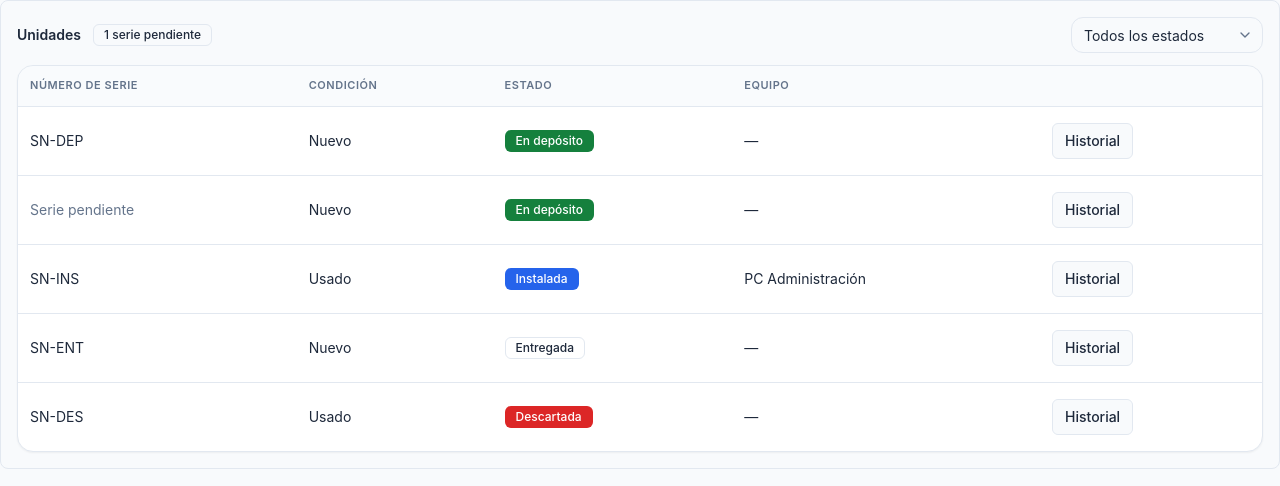
Test case: UnidadesInsumoSection › filtrar por estado deja solo esas unidades y el contador sigue contando todas
This screenshot has width=1280, height=486.
Check: the text "SN-INS" is shown, box [18,244,297,313]
Select "Descartada" in the dropdown named "Filtrar por estado" at (1167, 35), box [1071,17,1263,53]
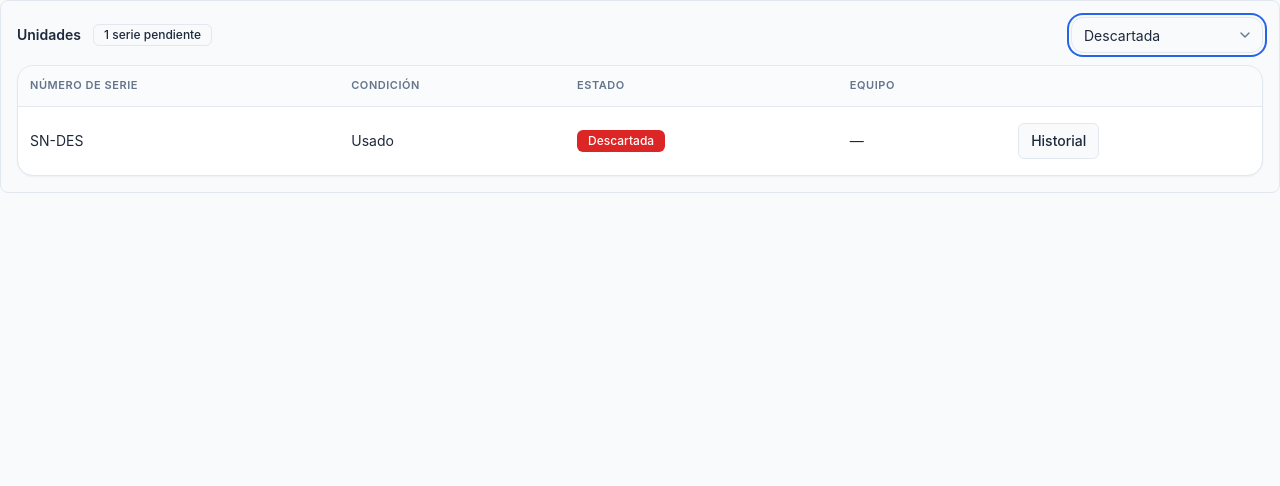
Check: the text "SN-DES" is shown, box [18,106,339,174]
Check: the text "SN-INS" is gone
Check: the text "SN-DEP" is gone
